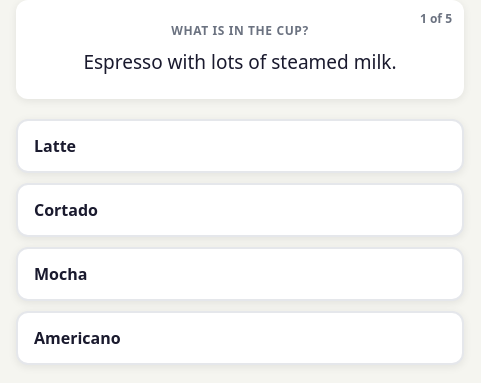
Test: IngredientMatch › advances to the next question after a correct answer
Click the button "Latte".
click(55, 146)  # box top-left (16, 118), bottom-right (464, 172)
Wait 1000 ms
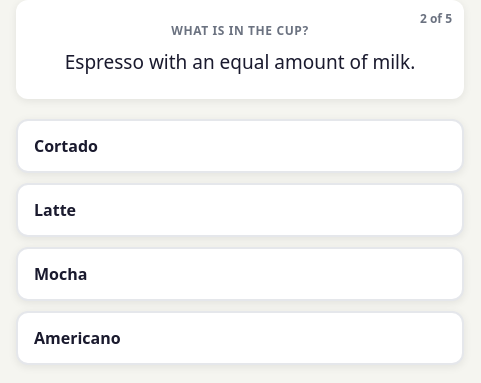
Expected: the text "Espresso with an equal amount of milk." is shown, top-left (34, 49), bottom-right (446, 76)
